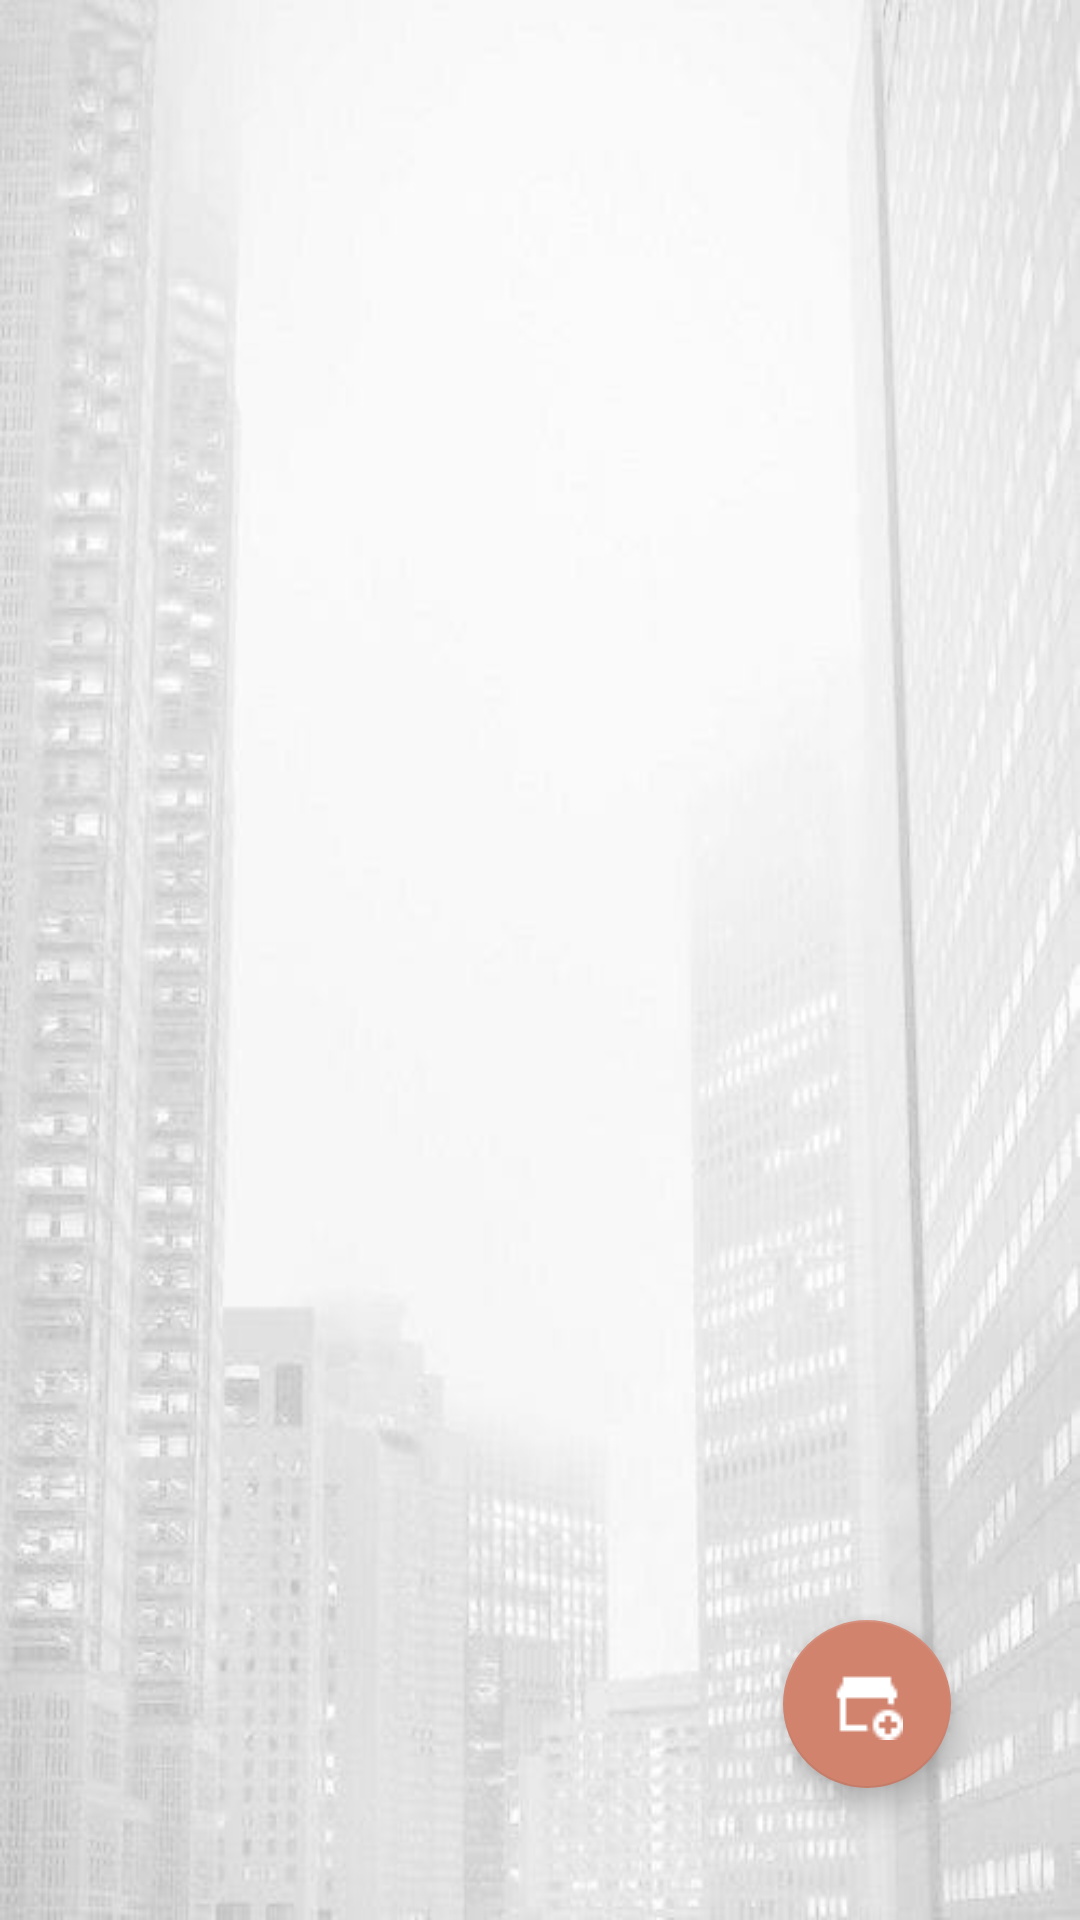

Icons on this 1080x1920 Android screen, each with the point to tap as (x=x, y=y):
nuevoinmueble: (x=867, y=1704)
